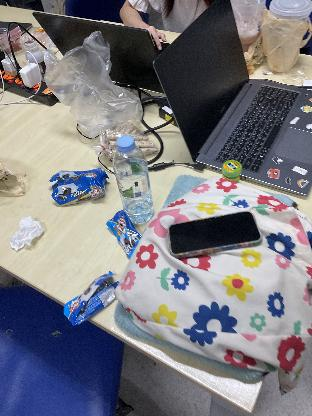Plastic Bag: (51, 30, 147, 138)
Plastic Bottle: (112, 132, 156, 228)
Plastic Packaging: (62, 272, 122, 324), (48, 166, 109, 206), (106, 208, 146, 260)
